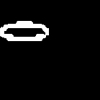chain: (0, 21, 48, 40)
